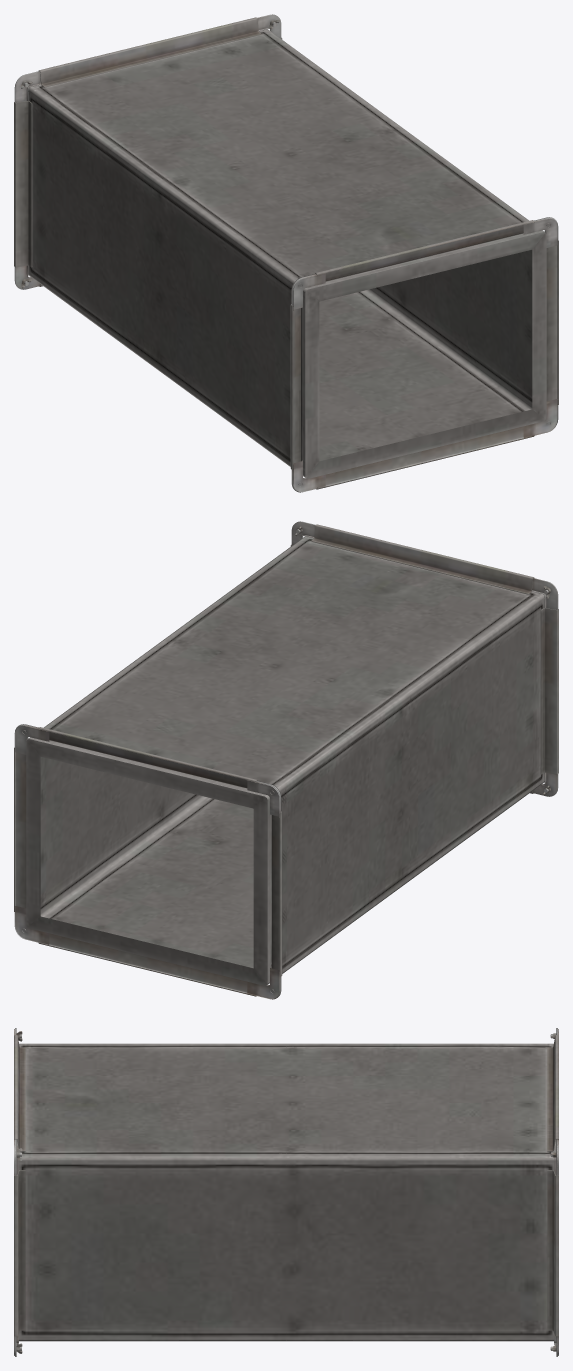
Rendered from double_01.gltf.
3 renders of one model, top to bottom at view 1: azimuth 30°, elevation 25°; view 2: azimuth 150°, elevation 25°; view 3: azimuth 270°, elevation 25°, orthographic. The views are drawn at different scales.
Visible parts, largest first — view 1: double_01; view 2: double_01; view 3: double_01.
Boxes of the visible parts, left/top/right/bottom form: double_01: left=14, top=14, right=558, bottom=492; double_01: left=14, top=521, right=558, bottom=999; double_01: left=14, top=1028, right=558, bottom=1356.
Size of the model in its own units: 0.6634 by 0.5126 by 1.2.
2 materials, 2 textured.
